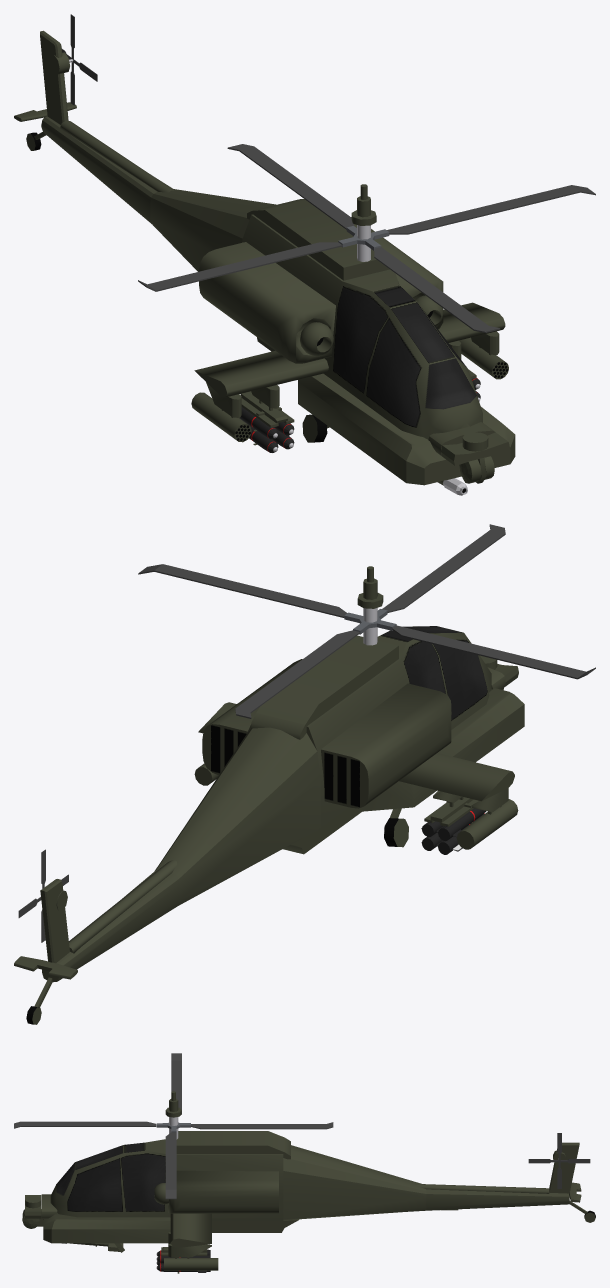
The model's file is Apache.FBX.
The picture shows the model from 3 angles, top to bottom: view 1: azimuth 30°, elevation 25°; view 2: azimuth 150°, elevation 25°; view 3: azimuth 270°, elevation 25°; orthographic projection. The views are drawn at different scales.
Visible parts, largest first — view 1: Box009, Cylinder009; view 2: Box009, Cylinder009; view 3: Box009, Cylinder009, Cylinder003.
Part boxes in pixels (x1=…): Box009: x1=14, y1=30, x2=515, y2=495; Cylinder009: x1=138, y1=144, x2=595, y2=332; Box009: x1=14, y1=566, x2=524, y2=1024; Cylinder009: x1=138, y1=524, x2=595, y2=718; Box009: x1=22, y1=1091, x2=595, y2=1273; Cylinder009: x1=14, y1=1053, x2=333, y2=1199; Cylinder003: x1=528, y1=1133, x2=590, y2=1188.
Bounding box in the file's own units: 716 × 395 × 1287.
4 materials, 4 textured.
